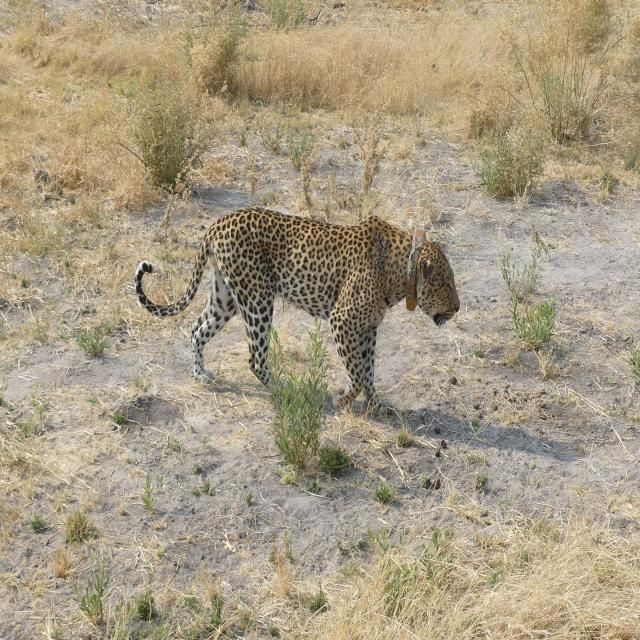Leopard: (144, 203, 460, 420)
